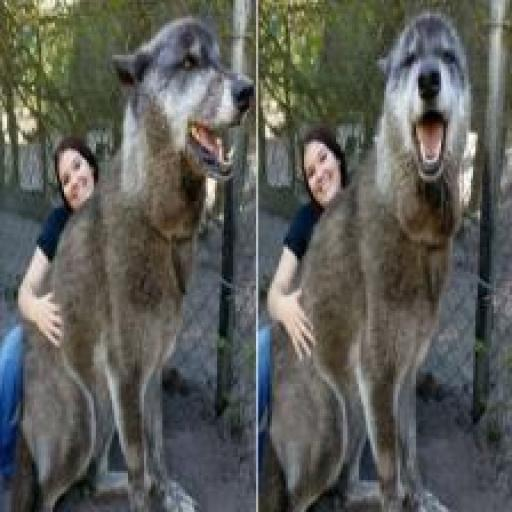wolf: (12, 0, 260, 512), (268, 0, 498, 511)
